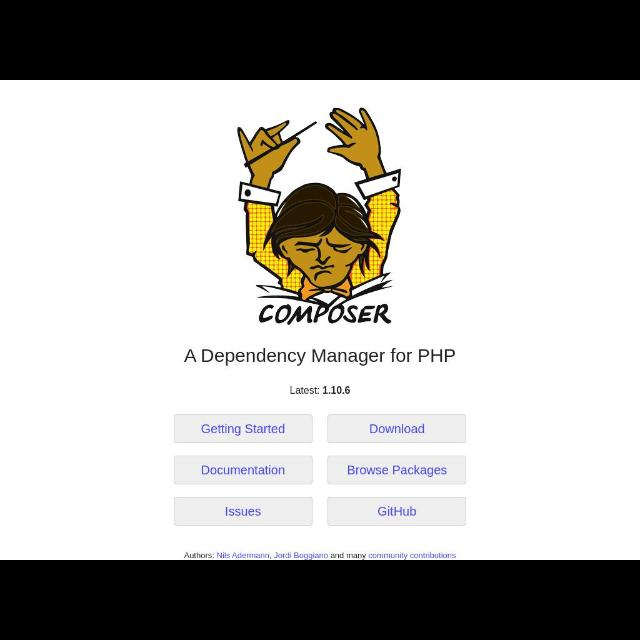image: (238, 108, 402, 324)
text: (183, 348, 455, 364), (184, 552, 456, 558), (348, 467, 447, 478), (202, 424, 284, 436), (202, 465, 284, 475), (370, 424, 424, 434), (289, 386, 351, 394), (378, 506, 416, 516), (225, 506, 261, 516)
textbutton: (328, 496, 467, 526), (174, 414, 312, 444), (328, 456, 468, 484), (175, 496, 313, 524), (327, 416, 467, 442), (173, 456, 313, 482)
